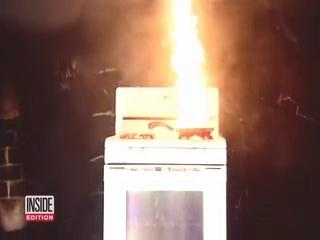Fire: (158, 1, 223, 134)
